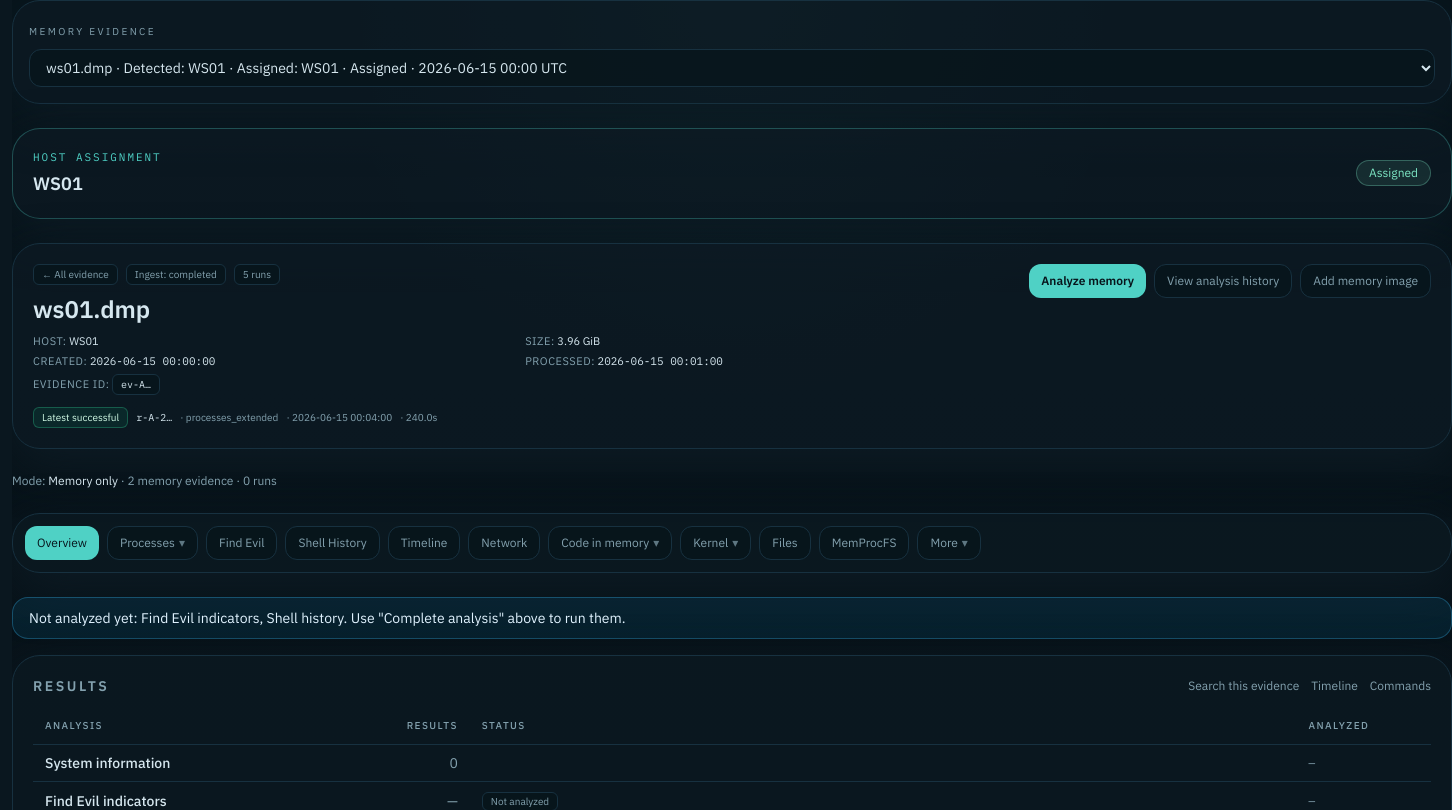
Test: Memory evidence scoping v1 › first analysis button shows Analyzing... while in flight
Click the button with test id "memory-analyze-direct": click(1088, 280) [1029,264,1146,298]
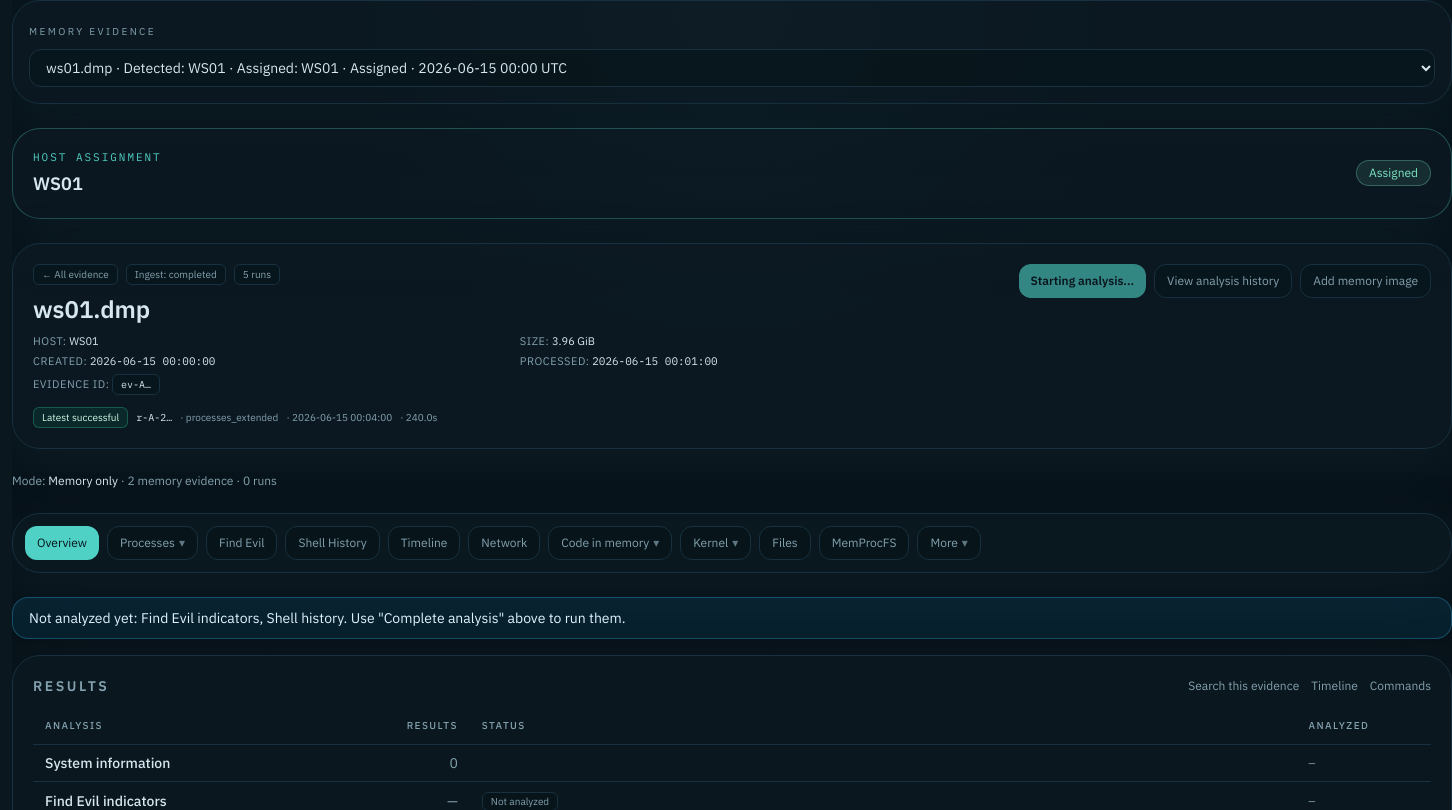
Expected: the button with test id "memory-analyze-direct" reads "Starting analysis...", [1019,264,1146,298]
